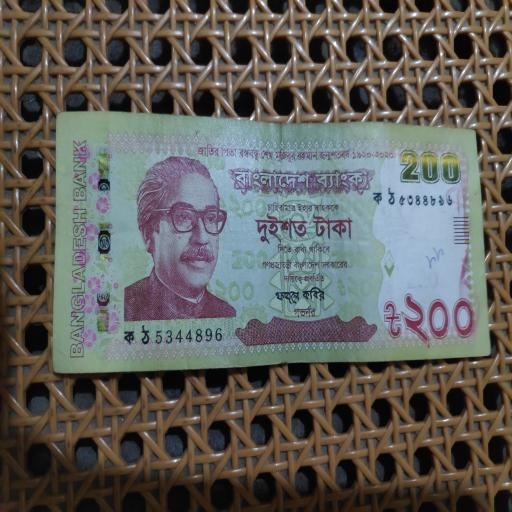200taka: (48, 114, 499, 364)
